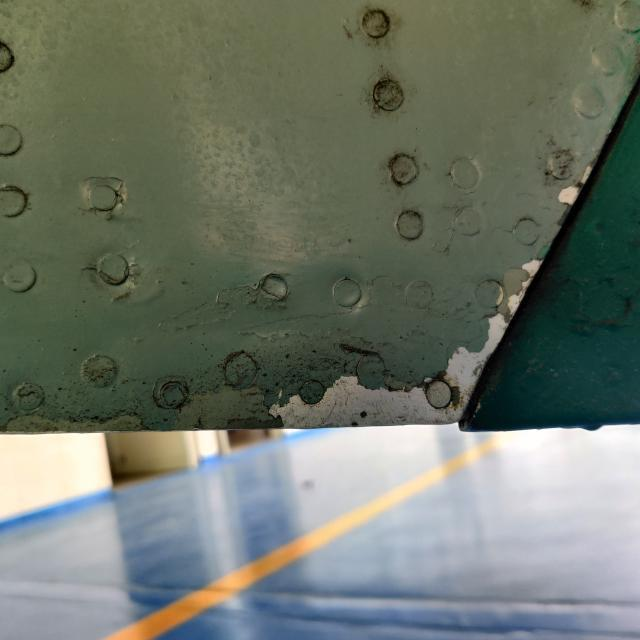Paint-off: (258, 256, 547, 432)
